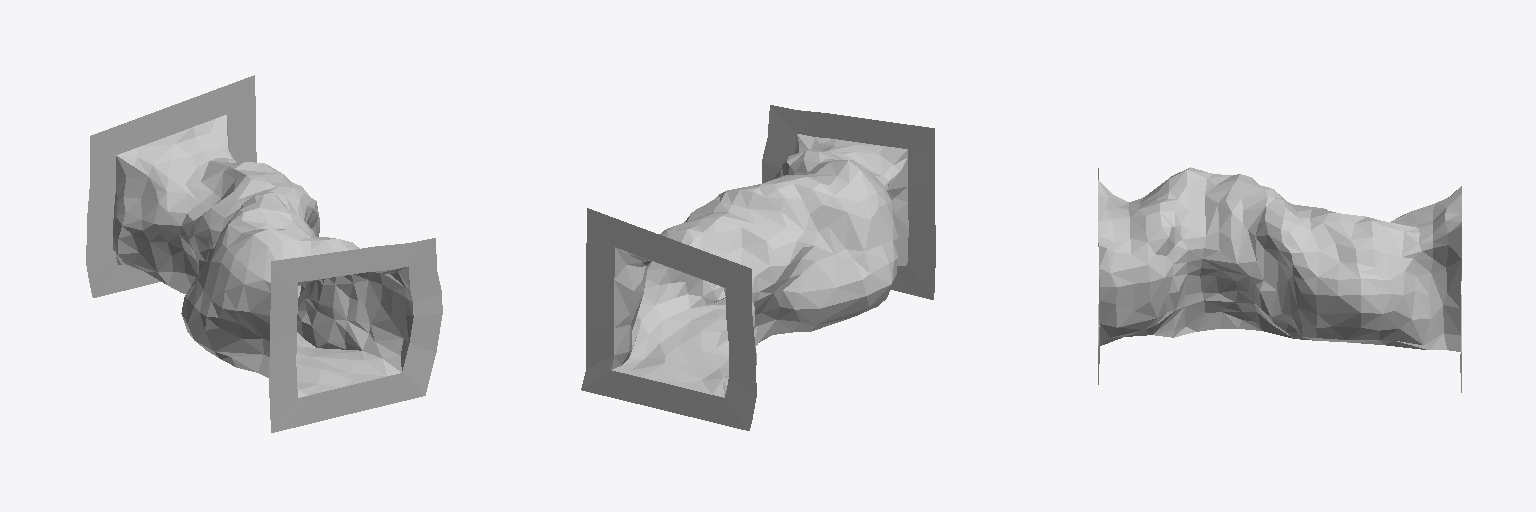
Rendered from Tunnel1_Straight.OBJ.
3 renders of one model, left to right at view 1: azimuth 30°, elevation 25°; view 2: azimuth 150°, elevation 25°; view 3: azimuth 270°, elevation 25°, orthographic.
Parts seen in each view (by area): view 1: Group43290; view 2: Group43290; view 3: Group43290.
Part boxes in pixels (x1,y1,x2,y2): Group43290: (86,75,442,432); Group43290: (581,105,935,430); Group43290: (1098,167,1461,392).
Size of the model in its own units: 521 by 478 by 851.